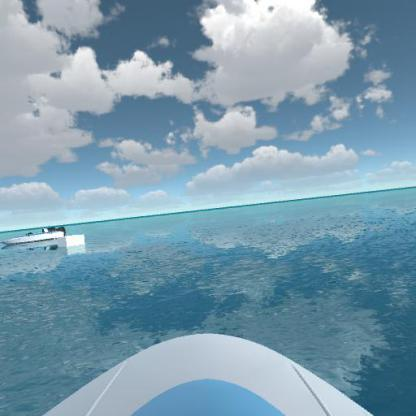usv1: (2, 222, 71, 252)
